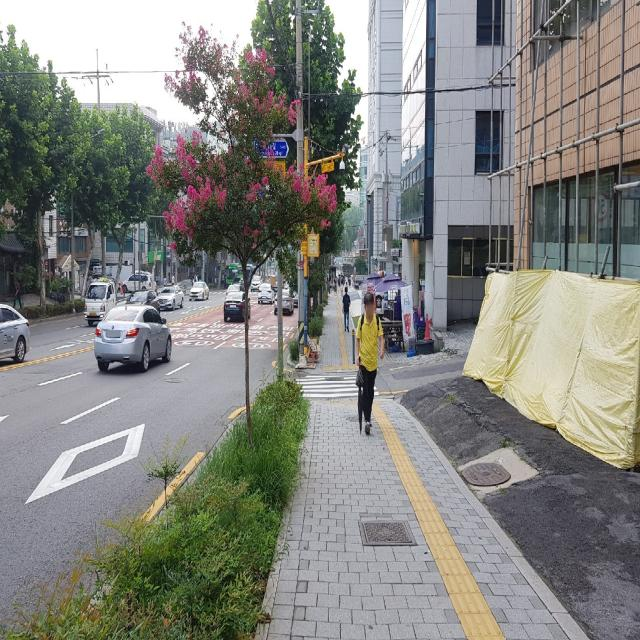횡단보도: (295, 375, 379, 398)
